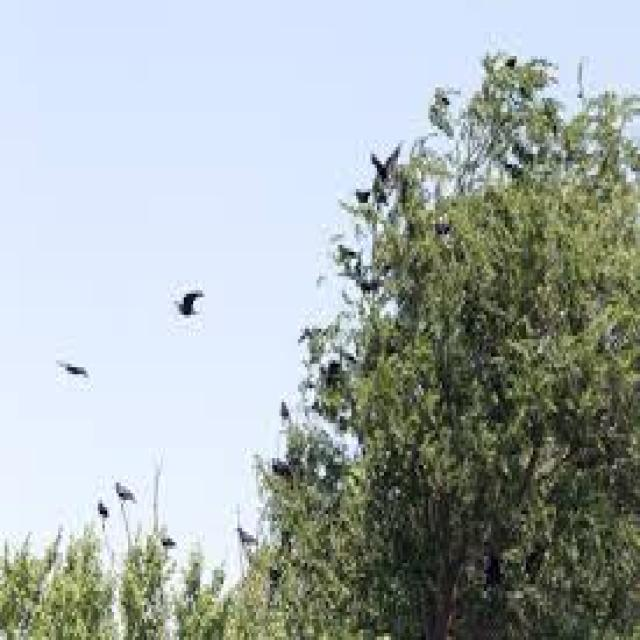bird: (164, 260, 243, 362), (48, 324, 116, 422), (270, 355, 305, 446), (157, 507, 190, 574), (120, 458, 148, 525), (87, 479, 113, 542), (236, 496, 262, 556)
